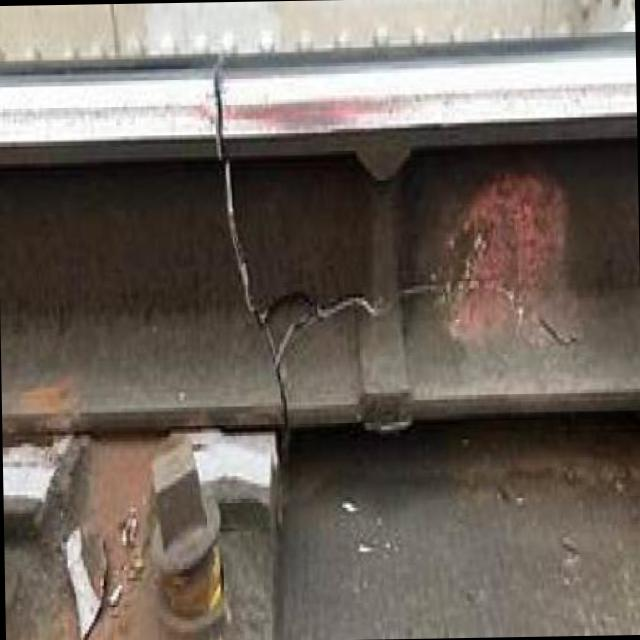defective: (0, 12, 613, 640)
